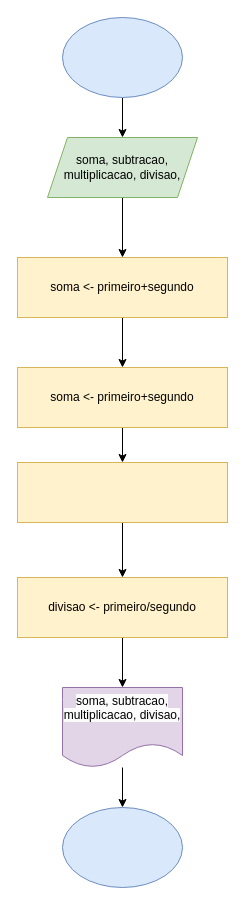
The diagram is 245 pixels wide and 905 high, and some of its shapes have lost their labels. Here are the shapes that lost their labels. From the top down, the centre of each, then its label:
At point (122, 57): "INICIO".
At point (122, 492): "multiplicacao <- primeiro*segundo".
